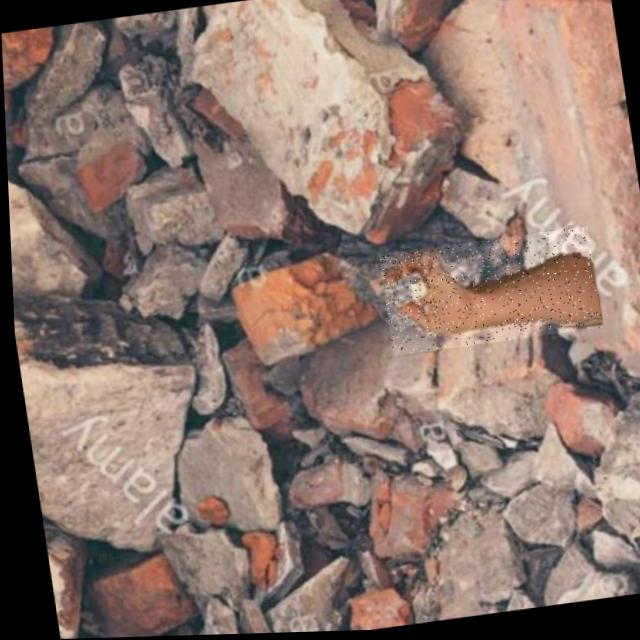Person in Rubble: (374, 228, 600, 356)
